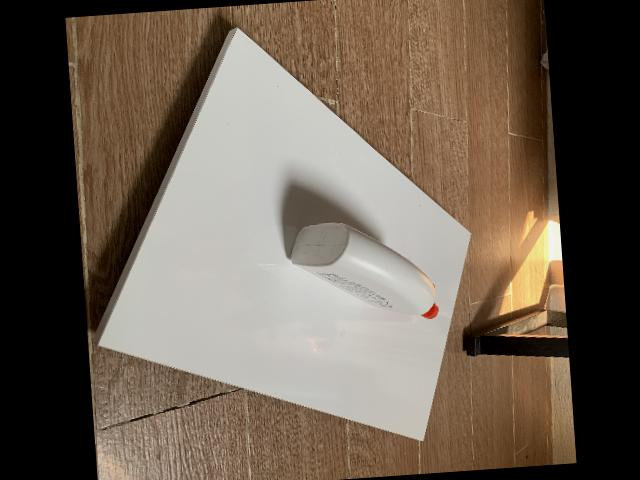life-buoy: (288, 222, 437, 319)
